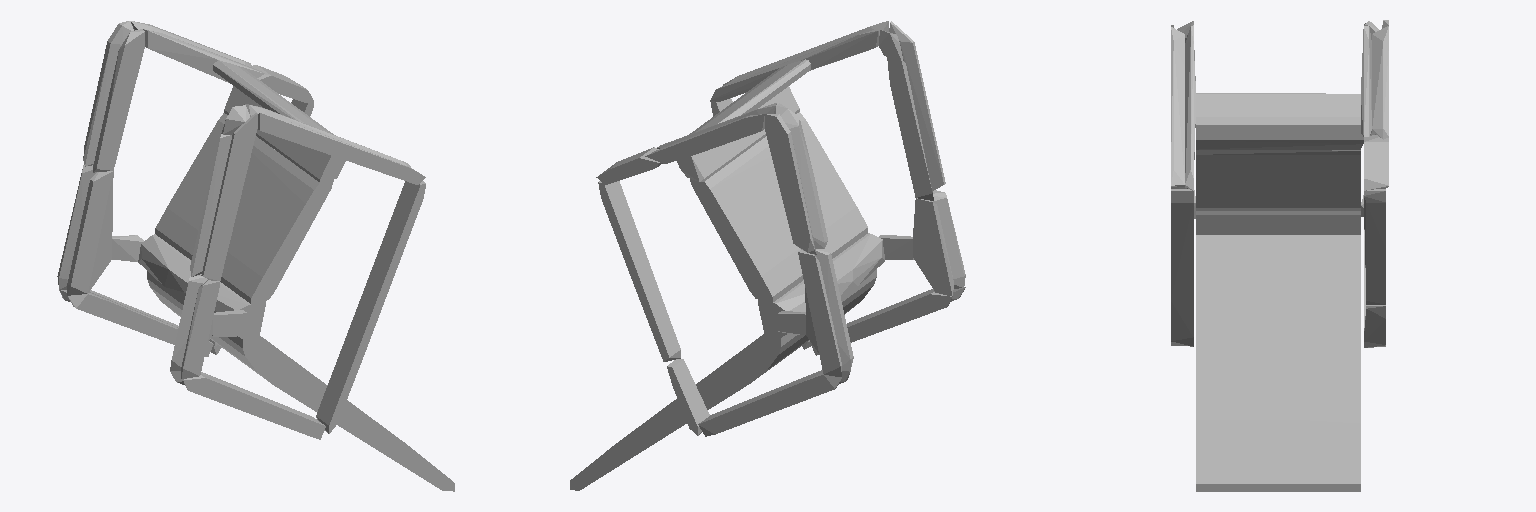
--- What the picture shows (computed from the rendered views, not written in the file) ---
3 views of the same robot in one strip: view 1: azimuth 30°, elevation 25°; view 2: azimuth 150°, elevation 25°; view 3: azimuth 270°, elevation 25° (orthographic).
Robot: root — 29 links, 28 joints (28 fixed); root link link_d85daabdcd4481becdd3fedfdba1457f_convex_piece_0; default pose: all joints at 0.
Visible links, largest first — view 1: link_d85daabdcd4481becdd3fedfdba1457f_convex_piece_10, link_d85daabdcd4481becdd3fedfdba1457f_convex_piece_1, link_d85daabdcd4481becdd3fedfdba1457f_convex_piece_0, link_d85daabdcd4481becdd3fedfdba1457f_convex_piece_22, link_d85daabdcd4481becdd3fedfdba1457f_convex_piece_2, link_d85daabdcd4481becdd3fedfdba1457f_convex_piece_15, link_d85daabdcd4481becdd3fedfdba1457f_convex_piece_9, link_d85daabdcd4481becdd3fedfdba1457f_convex_piece_21, link_d85daabdcd4481becdd3fedfdba1457f_convex_piece_4, link_d85daabdcd4481becdd3fedfdba1457f_convex_piece_11, link_d85daabdcd4481becdd3fedfdba1457f_convex_piece_23, link_d85daabdcd4481becdd3fedfdba1457f_convex_piece_6 (+11 smaller); view 2: link_d85daabdcd4481becdd3fedfdba1457f_convex_piece_10, link_d85daabdcd4481becdd3fedfdba1457f_convex_piece_1, link_d85daabdcd4481becdd3fedfdba1457f_convex_piece_14, link_d85daabdcd4481becdd3fedfdba1457f_convex_piece_9, link_d85daabdcd4481becdd3fedfdba1457f_convex_piece_16, link_d85daabdcd4481becdd3fedfdba1457f_convex_piece_24, link_d85daabdcd4481becdd3fedfdba1457f_convex_piece_20, link_d85daabdcd4481becdd3fedfdba1457f_convex_piece_17, link_d85daabdcd4481becdd3fedfdba1457f_convex_piece_25, link_d85daabdcd4481becdd3fedfdba1457f_convex_piece_2, link_d85daabdcd4481becdd3fedfdba1457f_convex_piece_8, link_d85daabdcd4481becdd3fedfdba1457f_convex_piece_11 (+11 smaller); view 3: link_d85daabdcd4481becdd3fedfdba1457f_convex_piece_1, link_d85daabdcd4481becdd3fedfdba1457f_convex_piece_10, link_d85daabdcd4481becdd3fedfdba1457f_convex_piece_12, link_d85daabdcd4481becdd3fedfdba1457f_convex_piece_9, link_d85daabdcd4481becdd3fedfdba1457f_convex_piece_0, link_d85daabdcd4481becdd3fedfdba1457f_convex_piece_11, link_d85daabdcd4481becdd3fedfdba1457f_convex_piece_14, link_d85daabdcd4481becdd3fedfdba1457f_convex_piece_21, link_d85daabdcd4481becdd3fedfdba1457f_convex_piece_28, link_d85daabdcd4481becdd3fedfdba1457f_convex_piece_8, link_d85daabdcd4481becdd3fedfdba1457f_convex_piece_26, link_d85daabdcd4481becdd3fedfdba1457f_convex_piece_27 (+1 smaller).
Link boxes in pixels (left/top/right/bottom): link_d85daabdcd4481becdd3fedfdba1457f_convex_piece_10: left=155, top=113, right=333, bottom=303; link_d85daabdcd4481becdd3fedfdba1457f_convex_piece_1: left=147, top=271, right=454, bottom=491; link_d85daabdcd4481becdd3fedfdba1457f_convex_piece_0: left=316, top=181, right=425, bottom=433; link_d85daabdcd4481becdd3fedfdba1457f_convex_piece_22: left=67, top=171, right=113, bottom=295; link_d85daabdcd4481becdd3fedfdba1457f_convex_piece_2: left=201, top=113, right=257, bottom=280; link_d85daabdcd4481becdd3fedfdba1457f_convex_piece_15: left=93, top=29, right=144, bottom=172; link_d85daabdcd4481becdd3fedfdba1457f_convex_piece_9: left=138, top=234, right=265, bottom=338; link_d85daabdcd4481becdd3fedfdba1457f_convex_piece_21: left=258, top=113, right=425, bottom=184; link_d85daabdcd4481becdd3fedfdba1457f_convex_piece_4: left=183, top=374, right=325, bottom=439; link_d85daabdcd4481becdd3fedfdba1457f_convex_piece_11: left=224, top=86, right=345, bottom=182; link_d85daabdcd4481becdd3fedfdba1457f_convex_piece_23: left=68, top=293, right=213, bottom=356; link_d85daabdcd4481becdd3fedfdba1457f_convex_piece_6: left=181, top=279, right=219, bottom=378; link_d85daabdcd4481becdd3fedfdba1457f_convex_piece_10: left=690, top=112, right=867, bottom=302; link_d85daabdcd4481becdd3fedfdba1457f_convex_piece_1: left=570, top=269, right=876, bottom=490; link_d85daabdcd4481becdd3fedfdba1457f_convex_piece_14: left=598, top=181, right=680, bottom=361; link_d85daabdcd4481becdd3fedfdba1457f_convex_piece_9: left=758, top=233, right=884, bottom=337; link_d85daabdcd4481becdd3fedfdba1457f_convex_piece_16: left=765, top=114, right=816, bottom=254; link_d85daabdcd4481becdd3fedfdba1457f_convex_piece_24: left=698, top=372, right=841, bottom=436; link_d85daabdcd4481becdd3fedfdba1457f_convex_piece_20: left=887, top=57, right=933, bottom=200; link_d85daabdcd4481becdd3fedfdba1457f_convex_piece_17: left=913, top=198, right=953, bottom=296; link_d85daabdcd4481becdd3fedfdba1457f_convex_piece_25: left=798, top=250, right=841, bottom=376; link_d85daabdcd4481becdd3fedfdba1457f_convex_piece_2: left=889, top=21, right=945, bottom=191; link_d85daabdcd4481becdd3fedfdba1457f_convex_piece_8: left=711, top=29, right=878, bottom=101; link_d85daabdcd4481becdd3fedfdba1457f_convex_piece_11: left=677, top=86, right=799, bottom=181; link_d85daabdcd4481becdd3fedfdba1457f_convex_piece_1: left=1196, top=235, right=1360, bottom=491; link_d85daabdcd4481becdd3fedfdba1457f_convex_piece_10: left=1196, top=150, right=1360, bottom=210; link_d85daabdcd4481becdd3fedfdba1457f_convex_piece_12: left=1196, top=93, right=1360, bottom=132; link_d85daabdcd4481becdd3fedfdba1457f_convex_piece_9: left=1196, top=211, right=1360, bottom=234; link_d85daabdcd4481becdd3fedfdba1457f_convex_piece_0: left=1171, top=189, right=1193, bottom=346; link_d85daabdcd4481becdd3fedfdba1457f_convex_piece_11: left=1196, top=133, right=1363, bottom=149; link_d85daabdcd4481becdd3fedfdba1457f_convex_piece_14: left=1364, top=189, right=1385, bottom=304; link_d85daabdcd4481becdd3fedfdba1457f_convex_piece_21: left=1171, top=27, right=1184, bottom=186; link_d85daabdcd4481becdd3fedfdba1457f_convex_piece_28: left=1372, top=26, right=1388, bottom=139; link_d85daabdcd4481becdd3fedfdba1457f_convex_piece_8: left=1185, top=25, right=1195, bottom=190; link_d85daabdcd4481becdd3fedfdba1457f_convex_piece_26: left=1364, top=135, right=1388, bottom=190; link_d85daabdcd4481becdd3fedfdba1457f_convex_piece_27: left=1361, top=25, right=1371, bottom=136.
Bounding box of the posed robot: 0.0453 × 0.0349 × 0.0667 m (x, y, z).
Meshes: 29 distinct files referenced, 29 mesh visuals loaded (29 OBJ).

URDF robot description (root):
<robot name="root">
  <link name="link_d85daabdcd4481becdd3fedfdba1457f_convex_piece_0">
    <inertial>
      <origin rpy="0 0 0" xyz="0 0 0"/>
      <mass value="5.96E-08"/>
      <inertia ixx="1.94E-11" ixy="-7.56E-12" ixz="2.31E-12" iyy="9.93E-12" iyz="4.50E-13" izz="1.95E-11"/>
    </inertial>
    <visual>
      <origin rpy="0 0 0" xyz="0 0 0"/>
      <geometry>
        <mesh filename="d85daabdcd4481becdd3fedfdba1457f_convex_piece_0.obj" scale="1.0000E+00"/>
      </geometry>
      <material name="">
        <color rgba="7.50E-01 7.50E-01 7.50E-01 1"/>
      </material>
    </visual>
    <collision>
      <origin rpy="0 0 0" xyz="0 0 0"/>
      <geometry>
        <mesh filename="d85daabdcd4481becdd3fedfdba1457f_convex_piece_0.obj" scale="1.0000E+00"/>
      </geometry>
    </collision>
  </link>
  <link name="link_d85daabdcd4481becdd3fedfdba1457f_convex_piece_1">
    <inertial>
      <origin rpy="0 0 0" xyz="0 0 0"/>
      <mass value="1.35E-06"/>
      <inertia ixx="5.20E-10" ixy="-3.94E-13" ixz="-1.84E-10" iyy="5.73E-10" iyz="2.22E-12" izz="2.08E-10"/>
    </inertial>
    <visual>
      <origin rpy="0 0 0" xyz="0 0 0"/>
      <geometry>
        <mesh filename="d85daabdcd4481becdd3fedfdba1457f_convex_piece_1.obj" scale="1.0000E+00"/>
      </geometry>
      <material name="">
        <color rgba="7.50E-01 7.50E-01 7.50E-01 1"/>
      </material>
    </visual>
    <collision>
      <origin rpy="0 0 0" xyz="0 0 0"/>
      <geometry>
        <mesh filename="d85daabdcd4481becdd3fedfdba1457f_convex_piece_1.obj" scale="1.0000E+00"/>
      </geometry>
    </collision>
  </link>
  <joint name="link_d85daabdcd4481becdd3fedfdba1457f_convex_piece_1_joint" type="fixed">
    <origin rpy="0 0 0" xyz="0 0 0"/>
    <parent link="link_d85daabdcd4481becdd3fedfdba1457f_convex_piece_0"/>
    <child link="link_d85daabdcd4481becdd3fedfdba1457f_convex_piece_1"/>
  </joint>
  <link name="link_d85daabdcd4481becdd3fedfdba1457f_convex_piece_2">
    <inertial>
      <origin rpy="0 0 0" xyz="0 0 0"/>
      <mass value="2.00E-08"/>
      <inertia ixx="1.55E-11" ixy="5.10E-12" ixz="-6.17E-12" iyy="1.43E-11" iyz="-7.24E-12" izz="1.03E-11"/>
    </inertial>
    <visual>
      <origin rpy="0 0 0" xyz="0 0 0"/>
      <geometry>
        <mesh filename="d85daabdcd4481becdd3fedfdba1457f_convex_piece_2.obj" scale="1.0000E+00"/>
      </geometry>
      <material name="">
        <color rgba="7.50E-01 7.50E-01 7.50E-01 1"/>
      </material>
    </visual>
    <collision>
      <origin rpy="0 0 0" xyz="0 0 0"/>
      <geometry>
        <mesh filename="d85daabdcd4481becdd3fedfdba1457f_convex_piece_2.obj" scale="1.0000E+00"/>
      </geometry>
    </collision>
  </link>
  <joint name="link_d85daabdcd4481becdd3fedfdba1457f_convex_piece_2_joint" type="fixed">
    <origin rpy="0 0 0" xyz="0 0 0"/>
    <parent link="link_d85daabdcd4481becdd3fedfdba1457f_convex_piece_1"/>
    <child link="link_d85daabdcd4481becdd3fedfdba1457f_convex_piece_2"/>
  </joint>
  <link name="link_d85daabdcd4481becdd3fedfdba1457f_convex_piece_3">
    <inertial>
      <origin rpy="0 0 0" xyz="0 0 0"/>
      <mass value="7.06E-09"/>
      <inertia ixx="1.35E-12" ixy="-1.33E-12" ixz="-6.28E-14" iyy="1.21E-12" iyz="8.08E-14" izz="2.68E-12"/>
    </inertial>
    <visual>
      <origin rpy="0 0 0" xyz="0 0 0"/>
      <geometry>
        <mesh filename="d85daabdcd4481becdd3fedfdba1457f_convex_piece_3.obj" scale="1.0000E+00"/>
      </geometry>
      <material name="">
        <color rgba="7.50E-01 7.50E-01 7.50E-01 1"/>
      </material>
    </visual>
    <collision>
      <origin rpy="0 0 0" xyz="0 0 0"/>
      <geometry>
        <mesh filename="d85daabdcd4481becdd3fedfdba1457f_convex_piece_3.obj" scale="1.0000E+00"/>
      </geometry>
    </collision>
  </link>
  <joint name="link_d85daabdcd4481becdd3fedfdba1457f_convex_piece_3_joint" type="fixed">
    <origin rpy="0 0 0" xyz="0 0 0"/>
    <parent link="link_d85daabdcd4481becdd3fedfdba1457f_convex_piece_2"/>
    <child link="link_d85daabdcd4481becdd3fedfdba1457f_convex_piece_3"/>
  </joint>
  <link name="link_d85daabdcd4481becdd3fedfdba1457f_convex_piece_4">
    <inertial>
      <origin rpy="0 0 0" xyz="0 0 0"/>
      <mass value="3.69E-08"/>
      <inertia ixx="1.44E-11" ixy="6.59E-12" ixz="3.73E-12" iyy="1.03E-11" iyz="6.62E-12" izz="1.55E-11"/>
    </inertial>
    <visual>
      <origin rpy="0 0 0" xyz="0 0 0"/>
      <geometry>
        <mesh filename="d85daabdcd4481becdd3fedfdba1457f_convex_piece_4.obj" scale="1.0000E+00"/>
      </geometry>
      <material name="">
        <color rgba="7.50E-01 7.50E-01 7.50E-01 1"/>
      </material>
    </visual>
    <collision>
      <origin rpy="0 0 0" xyz="0 0 0"/>
      <geometry>
        <mesh filename="d85daabdcd4481becdd3fedfdba1457f_convex_piece_4.obj" scale="1.0000E+00"/>
      </geometry>
    </collision>
  </link>
  <joint name="link_d85daabdcd4481becdd3fedfdba1457f_convex_piece_4_joint" type="fixed">
    <origin rpy="0 0 0" xyz="0 0 0"/>
    <parent link="link_d85daabdcd4481becdd3fedfdba1457f_convex_piece_3"/>
    <child link="link_d85daabdcd4481becdd3fedfdba1457f_convex_piece_4"/>
  </joint>
  <link name="link_d85daabdcd4481becdd3fedfdba1457f_convex_piece_5">
    <inertial>
      <origin rpy="0 0 0" xyz="0 0 0"/>
      <mass value="2.25E-08"/>
      <inertia ixx="7.40E-12" ixy="3.58E-12" ixz="2.31E-12" iyy="6.31E-12" iyz="3.54E-12" izz="8.18E-12"/>
    </inertial>
    <visual>
      <origin rpy="0 0 0" xyz="0 0 0"/>
      <geometry>
        <mesh filename="d85daabdcd4481becdd3fedfdba1457f_convex_piece_5.obj" scale="1.0000E+00"/>
      </geometry>
      <material name="">
        <color rgba="7.50E-01 7.50E-01 7.50E-01 1"/>
      </material>
    </visual>
    <collision>
      <origin rpy="0 0 0" xyz="0 0 0"/>
      <geometry>
        <mesh filename="d85daabdcd4481becdd3fedfdba1457f_convex_piece_5.obj" scale="1.0000E+00"/>
      </geometry>
    </collision>
  </link>
  <joint name="link_d85daabdcd4481becdd3fedfdba1457f_convex_piece_5_joint" type="fixed">
    <origin rpy="0 0 0" xyz="0 0 0"/>
    <parent link="link_d85daabdcd4481becdd3fedfdba1457f_convex_piece_4"/>
    <child link="link_d85daabdcd4481becdd3fedfdba1457f_convex_piece_5"/>
  </joint>
  <link name="link_d85daabdcd4481becdd3fedfdba1457f_convex_piece_6">
    <inertial>
      <origin rpy="0 0 0" xyz="0 0 0"/>
      <mass value="2.42E-08"/>
      <inertia ixx="6.78E-12" ixy="7.79E-12" ixz="-1.07E-12" iyy="9.61E-12" iyz="-1.00E-12" izz="1.59E-11"/>
    </inertial>
    <visual>
      <origin rpy="0 0 0" xyz="0 0 0"/>
      <geometry>
        <mesh filename="d85daabdcd4481becdd3fedfdba1457f_convex_piece_6.obj" scale="1.0000E+00"/>
      </geometry>
      <material name="">
        <color rgba="7.50E-01 7.50E-01 7.50E-01 1"/>
      </material>
    </visual>
    <collision>
      <origin rpy="0 0 0" xyz="0 0 0"/>
      <geometry>
        <mesh filename="d85daabdcd4481becdd3fedfdba1457f_convex_piece_6.obj" scale="1.0000E+00"/>
      </geometry>
    </collision>
  </link>
  <joint name="link_d85daabdcd4481becdd3fedfdba1457f_convex_piece_6_joint" type="fixed">
    <origin rpy="0 0 0" xyz="0 0 0"/>
    <parent link="link_d85daabdcd4481becdd3fedfdba1457f_convex_piece_5"/>
    <child link="link_d85daabdcd4481becdd3fedfdba1457f_convex_piece_6"/>
  </joint>
  <link name="link_d85daabdcd4481becdd3fedfdba1457f_convex_piece_7">
    <inertial>
      <origin rpy="0 0 0" xyz="0 0 0"/>
      <mass value="5.92E-09"/>
      <inertia ixx="7.01E-12" ixy="1.08E-12" ixz="-2.27E-12" iyy="6.62E-12" iyz="-2.73E-12" izz="2.20E-12"/>
    </inertial>
    <visual>
      <origin rpy="0 0 0" xyz="0 0 0"/>
      <geometry>
        <mesh filename="d85daabdcd4481becdd3fedfdba1457f_convex_piece_7.obj" scale="1.0000E+00"/>
      </geometry>
      <material name="">
        <color rgba="7.50E-01 7.50E-01 7.50E-01 1"/>
      </material>
    </visual>
    <collision>
      <origin rpy="0 0 0" xyz="0 0 0"/>
      <geometry>
        <mesh filename="d85daabdcd4481becdd3fedfdba1457f_convex_piece_7.obj" scale="1.0000E+00"/>
      </geometry>
    </collision>
  </link>
  <joint name="link_d85daabdcd4481becdd3fedfdba1457f_convex_piece_7_joint" type="fixed">
    <origin rpy="0 0 0" xyz="0 0 0"/>
    <parent link="link_d85daabdcd4481becdd3fedfdba1457f_convex_piece_6"/>
    <child link="link_d85daabdcd4481becdd3fedfdba1457f_convex_piece_7"/>
  </joint>
  <link name="link_d85daabdcd4481becdd3fedfdba1457f_convex_piece_8">
    <inertial>
      <origin rpy="0 0 0" xyz="0 0 0"/>
      <mass value="3.12E-08"/>
      <inertia ixx="2.58E-11" ixy="-7.91E-13" ixz="5.45E-13" iyy="2.11E-11" iyz="-1.10E-11" izz="7.95E-12"/>
    </inertial>
    <visual>
      <origin rpy="0 0 0" xyz="0 0 0"/>
      <geometry>
        <mesh filename="d85daabdcd4481becdd3fedfdba1457f_convex_piece_8.obj" scale="1.0000E+00"/>
      </geometry>
      <material name="">
        <color rgba="7.50E-01 7.50E-01 7.50E-01 1"/>
      </material>
    </visual>
    <collision>
      <origin rpy="0 0 0" xyz="0 0 0"/>
      <geometry>
        <mesh filename="d85daabdcd4481becdd3fedfdba1457f_convex_piece_8.obj" scale="1.0000E+00"/>
      </geometry>
    </collision>
  </link>
  <joint name="link_d85daabdcd4481becdd3fedfdba1457f_convex_piece_8_joint" type="fixed">
    <origin rpy="0 0 0" xyz="0 0 0"/>
    <parent link="link_d85daabdcd4481becdd3fedfdba1457f_convex_piece_7"/>
    <child link="link_d85daabdcd4481becdd3fedfdba1457f_convex_piece_8"/>
  </joint>
  <link name="link_d85daabdcd4481becdd3fedfdba1457f_convex_piece_9">
    <inertial>
      <origin rpy="0 0 0" xyz="0 0 0"/>
      <mass value="2.19E-07"/>
      <inertia ixx="1.00E-11" ixy="3.34E-13" ixz="2.10E-13" iyy="2.12E-11" iyz="-6.44E-15" izz="3.49E-11"/>
    </inertial>
    <visual>
      <origin rpy="0 0 0" xyz="0 0 0"/>
      <geometry>
        <mesh filename="d85daabdcd4481becdd3fedfdba1457f_convex_piece_9.obj" scale="1.0000E+00"/>
      </geometry>
      <material name="">
        <color rgba="7.50E-01 7.50E-01 7.50E-01 1"/>
      </material>
    </visual>
    <collision>
      <origin rpy="0 0 0" xyz="0 0 0"/>
      <geometry>
        <mesh filename="d85daabdcd4481becdd3fedfdba1457f_convex_piece_9.obj" scale="1.0000E+00"/>
      </geometry>
    </collision>
  </link>
  <joint name="link_d85daabdcd4481becdd3fedfdba1457f_convex_piece_9_joint" type="fixed">
    <origin rpy="0 0 0" xyz="0 0 0"/>
    <parent link="link_d85daabdcd4481becdd3fedfdba1457f_convex_piece_8"/>
    <child link="link_d85daabdcd4481becdd3fedfdba1457f_convex_piece_9"/>
  </joint>
  <link name="link_d85daabdcd4481becdd3fedfdba1457f_convex_piece_10">
    <inertial>
      <origin rpy="0 0 0" xyz="0 0 0"/>
      <mass value="4.77E-07"/>
      <inertia ixx="8.14E-11" ixy="1.88E-13" ixz="-7.62E-12" iyy="6.35E-11" iyz="-5.75E-13" izz="3.70E-11"/>
    </inertial>
    <visual>
      <origin rpy="0 0 0" xyz="0 0 0"/>
      <geometry>
        <mesh filename="d85daabdcd4481becdd3fedfdba1457f_convex_piece_10.obj" scale="1.0000E+00"/>
      </geometry>
      <material name="">
        <color rgba="7.50E-01 7.50E-01 7.50E-01 1"/>
      </material>
    </visual>
    <collision>
      <origin rpy="0 0 0" xyz="0 0 0"/>
      <geometry>
        <mesh filename="d85daabdcd4481becdd3fedfdba1457f_convex_piece_10.obj" scale="1.0000E+00"/>
      </geometry>
    </collision>
  </link>
  <joint name="link_d85daabdcd4481becdd3fedfdba1457f_convex_piece_10_joint" type="fixed">
    <origin rpy="0 0 0" xyz="0 0 0"/>
    <parent link="link_d85daabdcd4481becdd3fedfdba1457f_convex_piece_9"/>
    <child link="link_d85daabdcd4481becdd3fedfdba1457f_convex_piece_10"/>
  </joint>
  <link name="link_d85daabdcd4481becdd3fedfdba1457f_convex_piece_11">
    <inertial>
      <origin rpy="0 0 0" xyz="0 0 0"/>
      <mass value="9.54E-08"/>
      <inertia ixx="4.34E-11" ixy="3.99E-14" ixz="7.01E-12" iyy="3.90E-11" iyz="2.15E-13" izz="6.90E-12"/>
    </inertial>
    <visual>
      <origin rpy="0 0 0" xyz="0 0 0"/>
      <geometry>
        <mesh filename="d85daabdcd4481becdd3fedfdba1457f_convex_piece_11.obj" scale="1.0000E+00"/>
      </geometry>
      <material name="">
        <color rgba="7.50E-01 7.50E-01 7.50E-01 1"/>
      </material>
    </visual>
    <collision>
      <origin rpy="0 0 0" xyz="0 0 0"/>
      <geometry>
        <mesh filename="d85daabdcd4481becdd3fedfdba1457f_convex_piece_11.obj" scale="1.0000E+00"/>
      </geometry>
    </collision>
  </link>
  <joint name="link_d85daabdcd4481becdd3fedfdba1457f_convex_piece_11_joint" type="fixed">
    <origin rpy="0 0 0" xyz="0 0 0"/>
    <parent link="link_d85daabdcd4481becdd3fedfdba1457f_convex_piece_10"/>
    <child link="link_d85daabdcd4481becdd3fedfdba1457f_convex_piece_11"/>
  </joint>
  <link name="link_d85daabdcd4481becdd3fedfdba1457f_convex_piece_12">
    <inertial>
      <origin rpy="0 0 0" xyz="0 0 0"/>
      <mass value="1.26E-07"/>
      <inertia ixx="7.95E-11" ixy="-3.87E-14" ixz="7.77E-12" iyy="7.33E-11" iyz="-4.09E-13" izz="8.32E-12"/>
    </inertial>
    <visual>
      <origin rpy="0 0 0" xyz="0 0 0"/>
      <geometry>
        <mesh filename="d85daabdcd4481becdd3fedfdba1457f_convex_piece_12.obj" scale="1.0000E+00"/>
      </geometry>
      <material name="">
        <color rgba="7.50E-01 7.50E-01 7.50E-01 1"/>
      </material>
    </visual>
    <collision>
      <origin rpy="0 0 0" xyz="0 0 0"/>
      <geometry>
        <mesh filename="d85daabdcd4481becdd3fedfdba1457f_convex_piece_12.obj" scale="1.0000E+00"/>
      </geometry>
    </collision>
  </link>
  <joint name="link_d85daabdcd4481becdd3fedfdba1457f_convex_piece_12_joint" type="fixed">
    <origin rpy="0 0 0" xyz="0 0 0"/>
    <parent link="link_d85daabdcd4481becdd3fedfdba1457f_convex_piece_11"/>
    <child link="link_d85daabdcd4481becdd3fedfdba1457f_convex_piece_12"/>
  </joint>
  <link name="link_d85daabdcd4481becdd3fedfdba1457f_convex_piece_13">
    <inertial>
      <origin rpy="0 0 0" xyz="0 0 0"/>
      <mass value="1.46E-08"/>
      <inertia ixx="6.18E-12" ixy="5.17E-13" ixz="-3.86E-13" iyy="2.79E-12" iyz="-3.09E-12" izz="3.57E-12"/>
    </inertial>
    <visual>
      <origin rpy="0 0 0" xyz="0 0 0"/>
      <geometry>
        <mesh filename="d85daabdcd4481becdd3fedfdba1457f_convex_piece_13.obj" scale="1.0000E+00"/>
      </geometry>
      <material name="">
        <color rgba="7.50E-01 7.50E-01 7.50E-01 1"/>
      </material>
    </visual>
    <collision>
      <origin rpy="0 0 0" xyz="0 0 0"/>
      <geometry>
        <mesh filename="d85daabdcd4481becdd3fedfdba1457f_convex_piece_13.obj" scale="1.0000E+00"/>
      </geometry>
    </collision>
  </link>
  <joint name="link_d85daabdcd4481becdd3fedfdba1457f_convex_piece_13_joint" type="fixed">
    <origin rpy="0 0 0" xyz="0 0 0"/>
    <parent link="link_d85daabdcd4481becdd3fedfdba1457f_convex_piece_12"/>
    <child link="link_d85daabdcd4481becdd3fedfdba1457f_convex_piece_13"/>
  </joint>
  <link name="link_d85daabdcd4481becdd3fedfdba1457f_convex_piece_14">
    <inertial>
      <origin rpy="0 0 0" xyz="0 0 0"/>
      <mass value="3.99E-08"/>
      <inertia ixx="1.19E-11" ixy="6.35E-12" ixz="2.77E-12" iyy="6.99E-12" iyz="2.70E-12" izz="1.41E-11"/>
    </inertial>
    <visual>
      <origin rpy="0 0 0" xyz="0 0 0"/>
      <geometry>
        <mesh filename="d85daabdcd4481becdd3fedfdba1457f_convex_piece_14.obj" scale="1.0000E+00"/>
      </geometry>
      <material name="">
        <color rgba="7.50E-01 7.50E-01 7.50E-01 1"/>
      </material>
    </visual>
    <collision>
      <origin rpy="0 0 0" xyz="0 0 0"/>
      <geometry>
        <mesh filename="d85daabdcd4481becdd3fedfdba1457f_convex_piece_14.obj" scale="1.0000E+00"/>
      </geometry>
    </collision>
  </link>
  <joint name="link_d85daabdcd4481becdd3fedfdba1457f_convex_piece_14_joint" type="fixed">
    <origin rpy="0 0 0" xyz="0 0 0"/>
    <parent link="link_d85daabdcd4481becdd3fedfdba1457f_convex_piece_13"/>
    <child link="link_d85daabdcd4481becdd3fedfdba1457f_convex_piece_14"/>
  </joint>
  <link name="link_d85daabdcd4481becdd3fedfdba1457f_convex_piece_15">
    <inertial>
      <origin rpy="0 0 0" xyz="0 0 0"/>
      <mass value="4.75E-08"/>
      <inertia ixx="3.71E-11" ixy="-1.01E-11" ixz="-1.56E-11" iyy="3.70E-11" iyz="1.63E-11" izz="2.03E-11"/>
    </inertial>
    <visual>
      <origin rpy="0 0 0" xyz="0 0 0"/>
      <geometry>
        <mesh filename="d85daabdcd4481becdd3fedfdba1457f_convex_piece_15.obj" scale="1.0000E+00"/>
      </geometry>
      <material name="">
        <color rgba="7.50E-01 7.50E-01 7.50E-01 1"/>
      </material>
    </visual>
    <collision>
      <origin rpy="0 0 0" xyz="0 0 0"/>
      <geometry>
        <mesh filename="d85daabdcd4481becdd3fedfdba1457f_convex_piece_15.obj" scale="1.0000E+00"/>
      </geometry>
    </collision>
  </link>
  <joint name="link_d85daabdcd4481becdd3fedfdba1457f_convex_piece_15_joint" type="fixed">
    <origin rpy="0 0 0" xyz="0 0 0"/>
    <parent link="link_d85daabdcd4481becdd3fedfdba1457f_convex_piece_14"/>
    <child link="link_d85daabdcd4481becdd3fedfdba1457f_convex_piece_15"/>
  </joint>
  <link name="link_d85daabdcd4481becdd3fedfdba1457f_convex_piece_16">
    <inertial>
      <origin rpy="0 0 0" xyz="0 0 0"/>
      <mass value="2.61E-08"/>
      <inertia ixx="2.25E-11" ixy="-6.45E-12" ixz="-8.71E-12" iyy="2.06E-11" iyz="1.04E-11" izz="1.31E-11"/>
    </inertial>
    <visual>
      <origin rpy="0 0 0" xyz="0 0 0"/>
      <geometry>
        <mesh filename="d85daabdcd4481becdd3fedfdba1457f_convex_piece_16.obj" scale="1.0000E+00"/>
      </geometry>
      <material name="">
        <color rgba="7.50E-01 7.50E-01 7.50E-01 1"/>
      </material>
    </visual>
    <collision>
      <origin rpy="0 0 0" xyz="0 0 0"/>
      <geometry>
        <mesh filename="d85daabdcd4481becdd3fedfdba1457f_convex_piece_16.obj" scale="1.0000E+00"/>
      </geometry>
    </collision>
  </link>
  <joint name="link_d85daabdcd4481becdd3fedfdba1457f_convex_piece_16_joint" type="fixed">
    <origin rpy="0 0 0" xyz="0 0 0"/>
    <parent link="link_d85daabdcd4481becdd3fedfdba1457f_convex_piece_15"/>
    <child link="link_d85daabdcd4481becdd3fedfdba1457f_convex_piece_16"/>
  </joint>
  <link name="link_d85daabdcd4481becdd3fedfdba1457f_convex_piece_17">
    <inertial>
      <origin rpy="0 0 0" xyz="0 0 0"/>
      <mass value="2.24E-08"/>
      <inertia ixx="4.76E-12" ixy="6.09E-12" ixz="-8.70E-13" iyy="8.30E-12" iyz="-7.33E-13" izz="1.27E-11"/>
    </inertial>
    <visual>
      <origin rpy="0 0 0" xyz="0 0 0"/>
      <geometry>
        <mesh filename="d85daabdcd4481becdd3fedfdba1457f_convex_piece_17.obj" scale="1.0000E+00"/>
      </geometry>
      <material name="">
        <color rgba="7.50E-01 7.50E-01 7.50E-01 1"/>
      </material>
    </visual>
    <collision>
      <origin rpy="0 0 0" xyz="0 0 0"/>
      <geometry>
        <mesh filename="d85daabdcd4481becdd3fedfdba1457f_convex_piece_17.obj" scale="1.0000E+00"/>
      </geometry>
    </collision>
  </link>
  <joint name="link_d85daabdcd4481becdd3fedfdba1457f_convex_piece_17_joint" type="fixed">
    <origin rpy="0 0 0" xyz="0 0 0"/>
    <parent link="link_d85daabdcd4481becdd3fedfdba1457f_convex_piece_16"/>
    <child link="link_d85daabdcd4481becdd3fedfdba1457f_convex_piece_17"/>
  </joint>
  <link name="link_d85daabdcd4481becdd3fedfdba1457f_convex_piece_18">
    <inertial>
      <origin rpy="0 0 0" xyz="0 0 0"/>
      <mass value="6.82E-09"/>
      <inertia ixx="1.29E-12" ixy="1.30E-12" ixz="-6.63E-14" iyy="1.20E-12" iyz="-8.13E-14" izz="2.61E-12"/>
    </inertial>
    <visual>
      <origin rpy="0 0 0" xyz="0 0 0"/>
      <geometry>
        <mesh filename="d85daabdcd4481becdd3fedfdba1457f_convex_piece_18.obj" scale="1.0000E+00"/>
      </geometry>
      <material name="">
        <color rgba="7.50E-01 7.50E-01 7.50E-01 1"/>
      </material>
    </visual>
    <collision>
      <origin rpy="0 0 0" xyz="0 0 0"/>
      <geometry>
        <mesh filename="d85daabdcd4481becdd3fedfdba1457f_convex_piece_18.obj" scale="1.0000E+00"/>
      </geometry>
    </collision>
  </link>
  <joint name="link_d85daabdcd4481becdd3fedfdba1457f_convex_piece_18_joint" type="fixed">
    <origin rpy="0 0 0" xyz="0 0 0"/>
    <parent link="link_d85daabdcd4481becdd3fedfdba1457f_convex_piece_17"/>
    <child link="link_d85daabdcd4481becdd3fedfdba1457f_convex_piece_18"/>
  </joint>
  <link name="link_d85daabdcd4481becdd3fedfdba1457f_convex_piece_19">
    <inertial>
      <origin rpy="0 0 0" xyz="0 0 0"/>
      <mass value="1.39E-08"/>
      <inertia ixx="8.81E-12" ixy="3.23E-12" ixz="-3.89E-12" iyy="8.57E-12" iyz="-4.17E-12" izz="6.49E-12"/>
    </inertial>
    <visual>
      <origin rpy="0 0 0" xyz="0 0 0"/>
      <geometry>
        <mesh filename="d85daabdcd4481becdd3fedfdba1457f_convex_piece_19.obj" scale="1.0000E+00"/>
      </geometry>
      <material name="">
        <color rgba="7.50E-01 7.50E-01 7.50E-01 1"/>
      </material>
    </visual>
    <collision>
      <origin rpy="0 0 0" xyz="0 0 0"/>
      <geometry>
        <mesh filename="d85daabdcd4481becdd3fedfdba1457f_convex_piece_19.obj" scale="1.0000E+00"/>
      </geometry>
    </collision>
  </link>
  <joint name="link_d85daabdcd4481becdd3fedfdba1457f_convex_piece_19_joint" type="fixed">
    <origin rpy="0 0 0" xyz="0 0 0"/>
    <parent link="link_d85daabdcd4481becdd3fedfdba1457f_convex_piece_18"/>
    <child link="link_d85daabdcd4481becdd3fedfdba1457f_convex_piece_19"/>
  </joint>
  <link name="link_d85daabdcd4481becdd3fedfdba1457f_convex_piece_20">
    <inertial>
      <origin rpy="0 0 0" xyz="0 0 0"/>
      <mass value="1.52E-08"/>
      <inertia ixx="9.15E-12" ixy="3.36E-12" ixz="-4.49E-12" iyy="9.87E-12" iyz="-4.19E-12" izz="6.78E-12"/>
    </inertial>
    <visual>
      <origin rpy="0 0 0" xyz="0 0 0"/>
      <geometry>
        <mesh filename="d85daabdcd4481becdd3fedfdba1457f_convex_piece_20.obj" scale="1.0000E+00"/>
      </geometry>
      <material name="">
        <color rgba="7.50E-01 7.50E-01 7.50E-01 1"/>
      </material>
    </visual>
    <collision>
      <origin rpy="0 0 0" xyz="0 0 0"/>
      <geometry>
        <mesh filename="d85daabdcd4481becdd3fedfdba1457f_convex_piece_20.obj" scale="1.0000E+00"/>
      </geometry>
    </collision>
  </link>
  <joint name="link_d85daabdcd4481becdd3fedfdba1457f_convex_piece_20_joint" type="fixed">
    <origin rpy="0 0 0" xyz="0 0 0"/>
    <parent link="link_d85daabdcd4481becdd3fedfdba1457f_convex_piece_19"/>
    <child link="link_d85daabdcd4481becdd3fedfdba1457f_convex_piece_20"/>
  </joint>
  <link name="link_d85daabdcd4481becdd3fedfdba1457f_convex_piece_21">
    <inertial>
      <origin rpy="0 0 0" xyz="0 0 0"/>
      <mass value="4.27E-08"/>
      <inertia ixx="3.78E-11" ixy="-1.33E-12" ixz="8.21E-13" iyy="2.88E-11" iyz="-1.72E-11" izz="1.38E-11"/>
    </inertial>
    <visual>
      <origin rpy="0 0 0" xyz="0 0 0"/>
      <geometry>
        <mesh filename="d85daabdcd4481becdd3fedfdba1457f_convex_piece_21.obj" scale="1.0000E+00"/>
      </geometry>
      <material name="">
        <color rgba="7.50E-01 7.50E-01 7.50E-01 1"/>
      </material>
    </visual>
    <collision>
      <origin rpy="0 0 0" xyz="0 0 0"/>
      <geometry>
        <mesh filename="d85daabdcd4481becdd3fedfdba1457f_convex_piece_21.obj" scale="1.0000E+00"/>
      </geometry>
    </collision>
  </link>
  <joint name="link_d85daabdcd4481becdd3fedfdba1457f_convex_piece_21_joint" type="fixed">
    <origin rpy="0 0 0" xyz="0 0 0"/>
    <parent link="link_d85daabdcd4481becdd3fedfdba1457f_convex_piece_20"/>
    <child link="link_d85daabdcd4481becdd3fedfdba1457f_convex_piece_21"/>
  </joint>
  <link name="link_d85daabdcd4481becdd3fedfdba1457f_convex_piece_22">
    <inertial>
      <origin rpy="0 0 0" xyz="0 0 0"/>
      <mass value="4.16E-08"/>
      <inertia ixx="9.67E-12" ixy="-1.11E-11" ixz="-2.81E-12" iyy="1.57E-11" iyz="2.36E-12" izz="2.31E-11"/>
    </inertial>
    <visual>
      <origin rpy="0 0 0" xyz="0 0 0"/>
      <geometry>
        <mesh filename="d85daabdcd4481becdd3fedfdba1457f_convex_piece_22.obj" scale="1.0000E+00"/>
      </geometry>
      <material name="">
        <color rgba="7.50E-01 7.50E-01 7.50E-01 1"/>
      </material>
    </visual>
    <collision>
      <origin rpy="0 0 0" xyz="0 0 0"/>
      <geometry>
        <mesh filename="d85daabdcd4481becdd3fedfdba1457f_convex_piece_22.obj" scale="1.0000E+00"/>
      </geometry>
    </collision>
  </link>
  <joint name="link_d85daabdcd4481becdd3fedfdba1457f_convex_piece_22_joint" type="fixed">
    <origin rpy="0 0 0" xyz="0 0 0"/>
    <parent link="link_d85daabdcd4481becdd3fedfdba1457f_convex_piece_21"/>
    <child link="link_d85daabdcd4481becdd3fedfdba1457f_convex_piece_22"/>
  </joint>
  <link name="link_d85daabdcd4481becdd3fedfdba1457f_convex_piece_23">
    <inertial>
      <origin rpy="0 0 0" xyz="0 0 0"/>
      <mass value="3.14E-08"/>
      <inertia ixx="1.03E-11" ixy="-5.01E-12" ixz="3.25E-12" iyy="8.87E-12" iyz="-4.93E-12" izz="1.14E-11"/>
    </inertial>
    <visual>
      <origin rpy="0 0 0" xyz="0 0 0"/>
      <geometry>
        <mesh filename="d85daabdcd4481becdd3fedfdba1457f_convex_piece_23.obj" scale="1.0000E+00"/>
      </geometry>
      <material name="">
        <color rgba="7.50E-01 7.50E-01 7.50E-01 1"/>
      </material>
    </visual>
    <collision>
      <origin rpy="0 0 0" xyz="0 0 0"/>
      <geometry>
        <mesh filename="d85daabdcd4481becdd3fedfdba1457f_convex_piece_23.obj" scale="1.0000E+00"/>
      </geometry>
    </collision>
  </link>
  <joint name="link_d85daabdcd4481becdd3fedfdba1457f_convex_piece_23_joint" type="fixed">
    <origin rpy="0 0 0" xyz="0 0 0"/>
    <parent link="link_d85daabdcd4481becdd3fedfdba1457f_convex_piece_22"/>
    <child link="link_d85daabdcd4481becdd3fedfdba1457f_convex_piece_23"/>
  </joint>
  <link name="link_d85daabdcd4481becdd3fedfdba1457f_convex_piece_24">
    <inertial>
      <origin rpy="0 0 0" xyz="0 0 0"/>
      <mass value="2.93E-08"/>
      <inertia ixx="1.14E-11" ixy="-5.32E-12" ixz="3.01E-12" iyy="8.18E-12" iyz="-5.22E-12" izz="1.24E-11"/>
    </inertial>
    <visual>
      <origin rpy="0 0 0" xyz="0 0 0"/>
      <geometry>
        <mesh filename="d85daabdcd4481becdd3fedfdba1457f_convex_piece_24.obj" scale="1.0000E+00"/>
      </geometry>
      <material name="">
        <color rgba="7.50E-01 7.50E-01 7.50E-01 1"/>
      </material>
    </visual>
    <collision>
      <origin rpy="0 0 0" xyz="0 0 0"/>
      <geometry>
        <mesh filename="d85daabdcd4481becdd3fedfdba1457f_convex_piece_24.obj" scale="1.0000E+00"/>
      </geometry>
    </collision>
  </link>
  <joint name="link_d85daabdcd4481becdd3fedfdba1457f_convex_piece_24_joint" type="fixed">
    <origin rpy="0 0 0" xyz="0 0 0"/>
    <parent link="link_d85daabdcd4481becdd3fedfdba1457f_convex_piece_23"/>
    <child link="link_d85daabdcd4481becdd3fedfdba1457f_convex_piece_24"/>
  </joint>
  <link name="link_d85daabdcd4481becdd3fedfdba1457f_convex_piece_25">
    <inertial>
      <origin rpy="0 0 0" xyz="0 0 0"/>
      <mass value="2.57E-08"/>
      <inertia ixx="7.77E-12" ixy="-8.06E-12" ixz="-2.02E-12" iyy="1.04E-11" iyz="1.90E-12" izz="1.64E-11"/>
    </inertial>
    <visual>
      <origin rpy="0 0 0" xyz="0 0 0"/>
      <geometry>
        <mesh filename="d85daabdcd4481becdd3fedfdba1457f_convex_piece_25.obj" scale="1.0000E+00"/>
      </geometry>
      <material name="">
        <color rgba="7.50E-01 7.50E-01 7.50E-01 1"/>
      </material>
    </visual>
    <collision>
      <origin rpy="0 0 0" xyz="0 0 0"/>
      <geometry>
        <mesh filename="d85daabdcd4481becdd3fedfdba1457f_convex_piece_25.obj" scale="1.0000E+00"/>
      </geometry>
    </collision>
  </link>
  <joint name="link_d85daabdcd4481becdd3fedfdba1457f_convex_piece_25_joint" type="fixed">
    <origin rpy="0 0 0" xyz="0 0 0"/>
    <parent link="link_d85daabdcd4481becdd3fedfdba1457f_convex_piece_24"/>
    <child link="link_d85daabdcd4481becdd3fedfdba1457f_convex_piece_25"/>
  </joint>
  <link name="link_d85daabdcd4481becdd3fedfdba1457f_convex_piece_26">
    <inertial>
      <origin rpy="0 0 0" xyz="0 0 0"/>
      <mass value="2.61E-08"/>
      <inertia ixx="1.60E-11" ixy="4.46E-12" ixz="5.59E-12" iyy="1.30E-11" iyz="7.90E-12" izz="9.64E-12"/>
    </inertial>
    <visual>
      <origin rpy="0 0 0" xyz="0 0 0"/>
      <geometry>
        <mesh filename="d85daabdcd4481becdd3fedfdba1457f_convex_piece_26.obj" scale="1.0000E+00"/>
      </geometry>
      <material name="">
        <color rgba="7.50E-01 7.50E-01 7.50E-01 1"/>
      </material>
    </visual>
    <collision>
      <origin rpy="0 0 0" xyz="0 0 0"/>
      <geometry>
        <mesh filename="d85daabdcd4481becdd3fedfdba1457f_convex_piece_26.obj" scale="1.0000E+00"/>
      </geometry>
    </collision>
  </link>
  <joint name="link_d85daabdcd4481becdd3fedfdba1457f_convex_piece_26_joint" type="fixed">
    <origin rpy="0 0 0" xyz="0 0 0"/>
    <parent link="link_d85daabdcd4481becdd3fedfdba1457f_convex_piece_25"/>
    <child link="link_d85daabdcd4481becdd3fedfdba1457f_convex_piece_26"/>
  </joint>
  <link name="link_d85daabdcd4481becdd3fedfdba1457f_convex_piece_27">
    <inertial>
      <origin rpy="0 0 0" xyz="0 0 0"/>
      <mass value="2.59E-08"/>
      <inertia ixx="2.36E-11" ixy="-6.69E-13" ixz="-1.54E-12" iyy="1.92E-11" iyz="9.72E-12" izz="5.71E-12"/>
    </inertial>
    <visual>
      <origin rpy="0 0 0" xyz="0 0 0"/>
      <geometry>
        <mesh filename="d85daabdcd4481becdd3fedfdba1457f_convex_piece_27.obj" scale="1.0000E+00"/>
      </geometry>
      <material name="">
        <color rgba="7.50E-01 7.50E-01 7.50E-01 1"/>
      </material>
    </visual>
    <collision>
      <origin rpy="0 0 0" xyz="0 0 0"/>
      <geometry>
        <mesh filename="d85daabdcd4481becdd3fedfdba1457f_convex_piece_27.obj" scale="1.0000E+00"/>
      </geometry>
    </collision>
  </link>
  <joint name="link_d85daabdcd4481becdd3fedfdba1457f_convex_piece_27_joint" type="fixed">
    <origin rpy="0 0 0" xyz="0 0 0"/>
    <parent link="link_d85daabdcd4481becdd3fedfdba1457f_convex_piece_26"/>
    <child link="link_d85daabdcd4481becdd3fedfdba1457f_convex_piece_27"/>
  </joint>
  <link name="link_d85daabdcd4481becdd3fedfdba1457f_convex_piece_28">
    <inertial>
      <origin rpy="0 0 0" xyz="0 0 0"/>
      <mass value="3.62E-08"/>
      <inertia ixx="3.63E-11" ixy="-1.30E-12" ixz="-2.56E-12" iyy="2.76E-11" iyz="1.61E-11" izz="1.07E-11"/>
    </inertial>
    <visual>
      <origin rpy="0 0 0" xyz="0 0 0"/>
      <geometry>
        <mesh filename="d85daabdcd4481becdd3fedfdba1457f_convex_piece_28.obj" scale="1.0000E+00"/>
      </geometry>
      <material name="">
        <color rgba="7.50E-01 7.50E-01 7.50E-01 1"/>
      </material>
    </visual>
    <collision>
      <origin rpy="0 0 0" xyz="0 0 0"/>
      <geometry>
        <mesh filename="d85daabdcd4481becdd3fedfdba1457f_convex_piece_28.obj" scale="1.0000E+00"/>
      </geometry>
    </collision>
  </link>
  <joint name="link_d85daabdcd4481becdd3fedfdba1457f_convex_piece_28_joint" type="fixed">
    <origin rpy="0 0 0" xyz="0 0 0"/>
    <parent link="link_d85daabdcd4481becdd3fedfdba1457f_convex_piece_27"/>
    <child link="link_d85daabdcd4481becdd3fedfdba1457f_convex_piece_28"/>
  </joint>
</robot>
